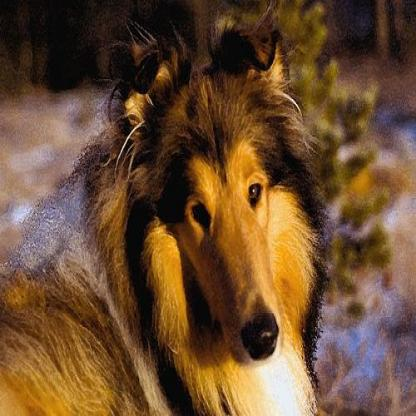collie: (0, 0, 328, 413)
